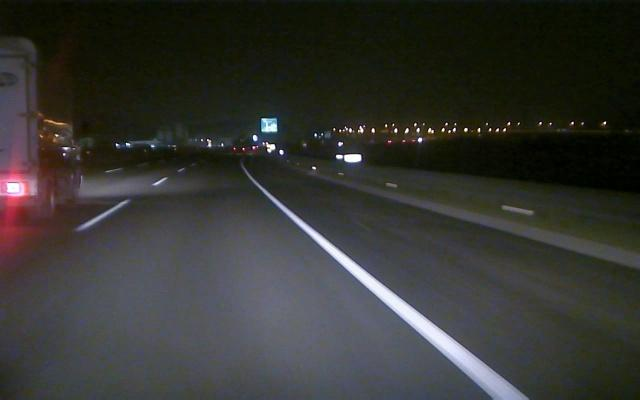lane: (251, 180, 526, 395), (75, 178, 165, 231)
